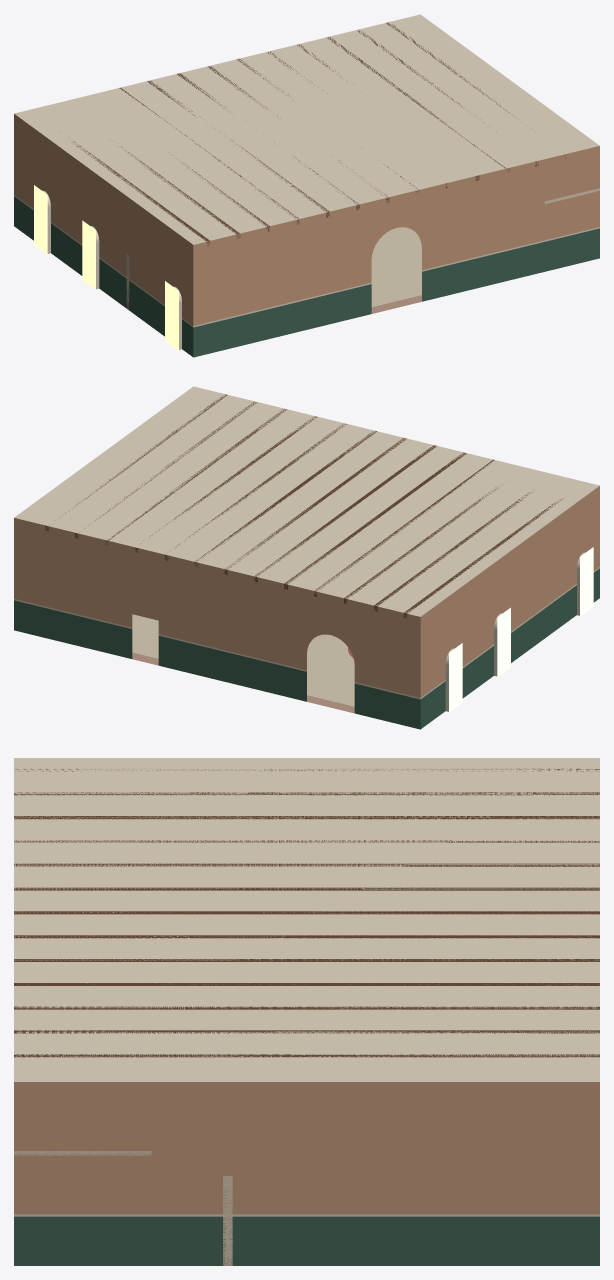
The model's file is salon.glb.
3 views of the same model, one above another, from view 1: azimuth 30°, elevation 25°; view 2: azimuth 150°, elevation 25°; view 3: azimuth 270°, elevation 25° (orthographic). The views are drawn at different scales.
Visible parts, largest first — view 1: techo, muro_S, muro_O, lambrin_S, lambrin_O, vigas, piso, vidrio_luz, rod_S, marco; view 2: techo, muro_N, muro_O, lambrin_N, vigas, lambrin_O, piso, vidrio_luz, rod_N, marco, cenefa; view 3: techo, muro_E, lambrin_E, vigas, rod_E, arq_col, cubo_top.
Part boxes in pixels (x1,y1,x2,y2): techo: [14, 14, 599, 244]; muro_S: [193, 146, 599, 325]; muro_O: [14, 114, 193, 325]; lambrin_S: [193, 228, 599, 357]; lambrin_O: [14, 196, 193, 356]; vigas: [71, 22, 565, 245]; piso: [371, 227, 421, 307]; vidrio_luz: [34, 185, 178, 350]; rod_S: [193, 227, 599, 327]; marco: [42, 190, 181, 349]; techo: [14, 386, 599, 616]; muro_N: [14, 518, 420, 697]; muro_O: [420, 486, 599, 697]; lambrin_N: [14, 600, 420, 729]; vigas: [45, 394, 563, 618]; lambrin_O: [420, 568, 599, 728]; piso: [132, 614, 354, 706]; vidrio_luz: [449, 547, 593, 712]; rod_N: [14, 599, 420, 699]; marco: [445, 552, 585, 711]; cenefa: [132, 652, 354, 713]; techo: [14, 758, 599, 1081]; muro_E: [14, 1082, 599, 1214]; lambrin_E: [14, 1216, 599, 1265]; vigas: [14, 768, 599, 1057]; rod_E: [14, 1214, 599, 1216]; arq_col: [223, 1176, 232, 1265]; cubo_top: [14, 1151, 151, 1155].
Bounding box in the file's own units: 34.35 × 9 × 26.
